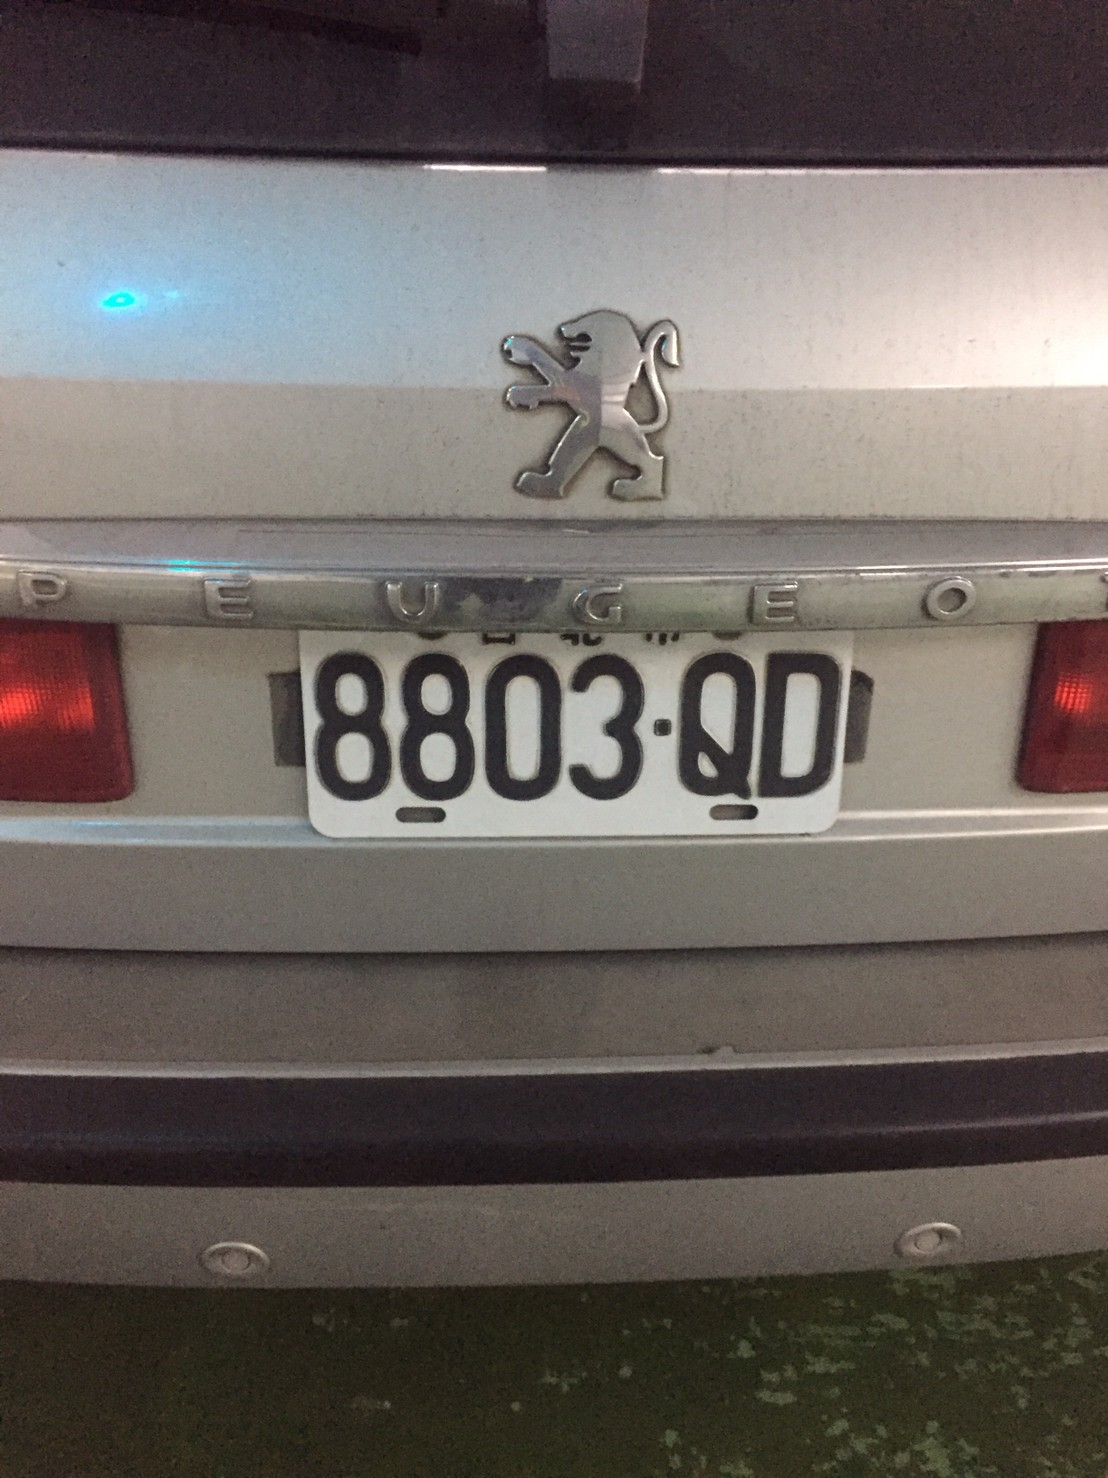LP: (293, 619, 852, 843)
